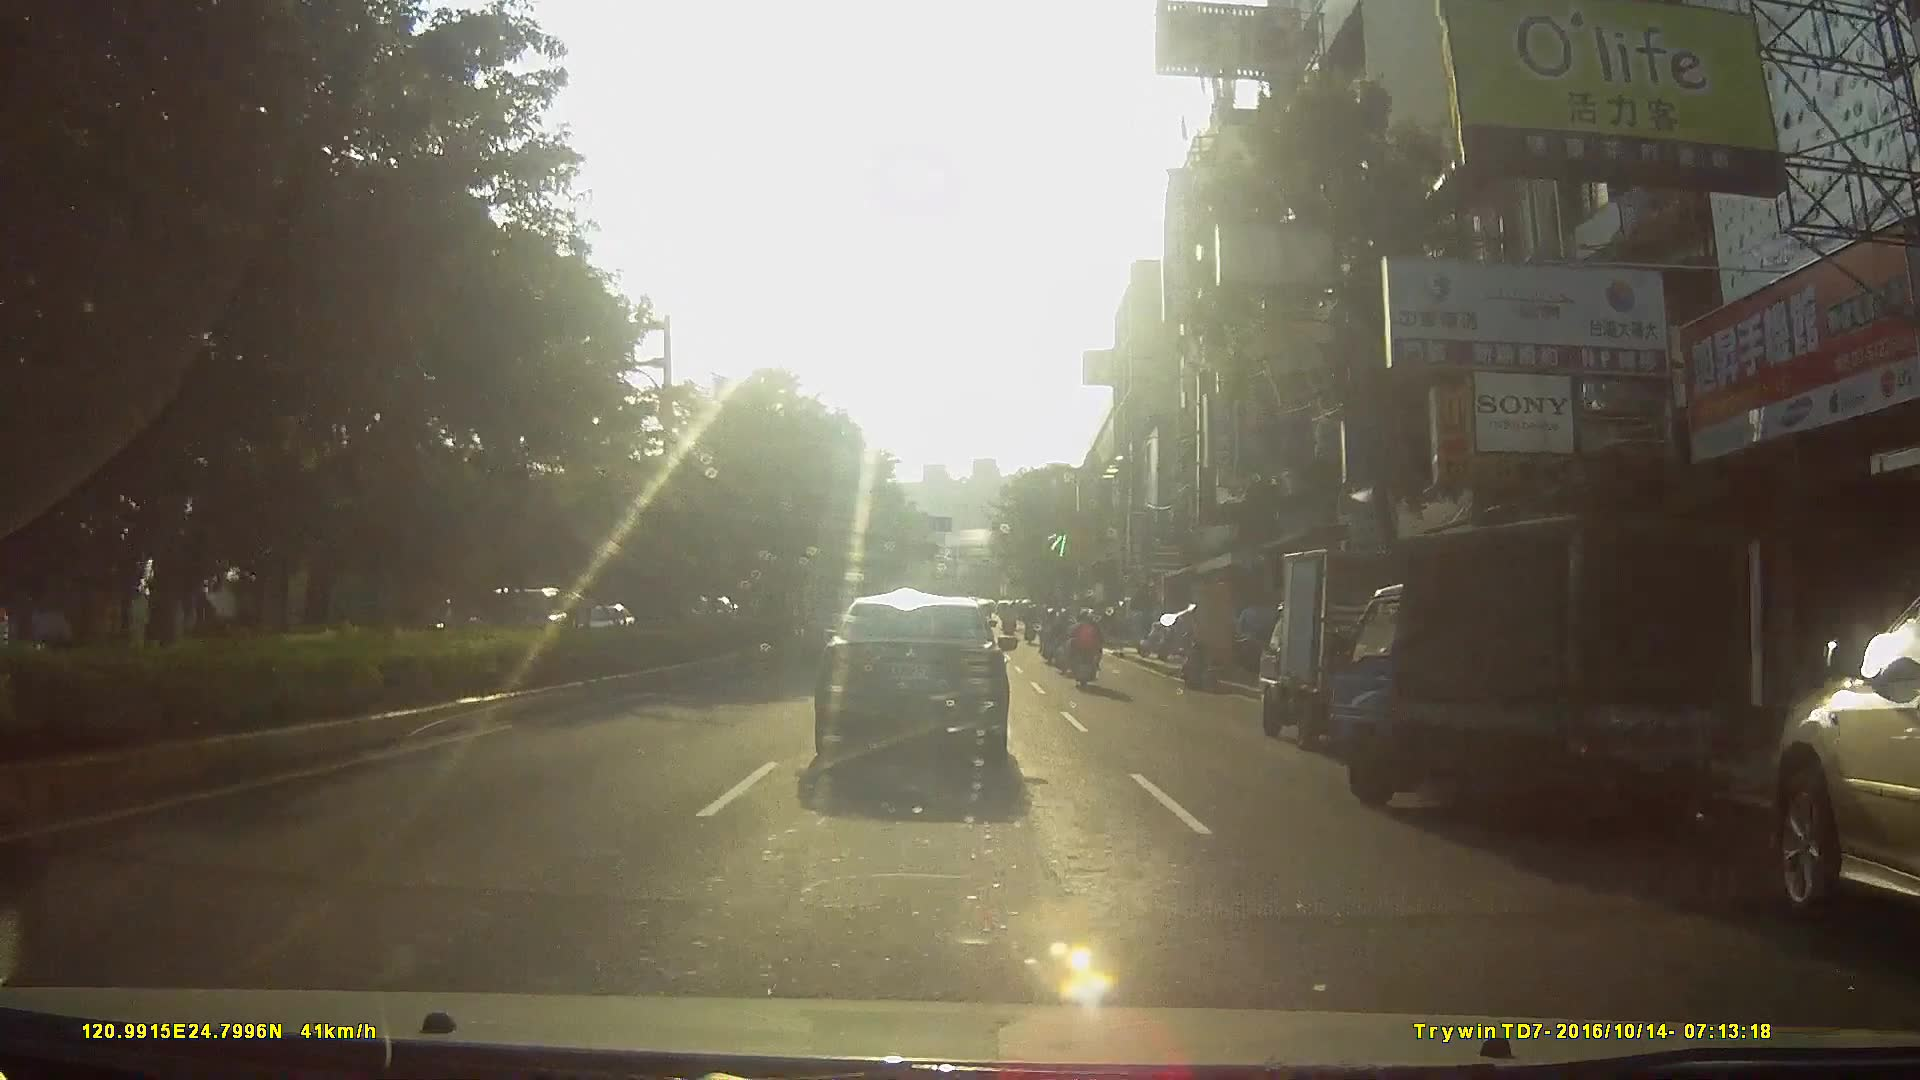rider: (1063, 607, 1106, 693), (1041, 606, 1061, 663)
vehicle: (1328, 494, 1786, 848), (1748, 588, 1920, 946), (1245, 535, 1489, 757), (812, 588, 1030, 789)
